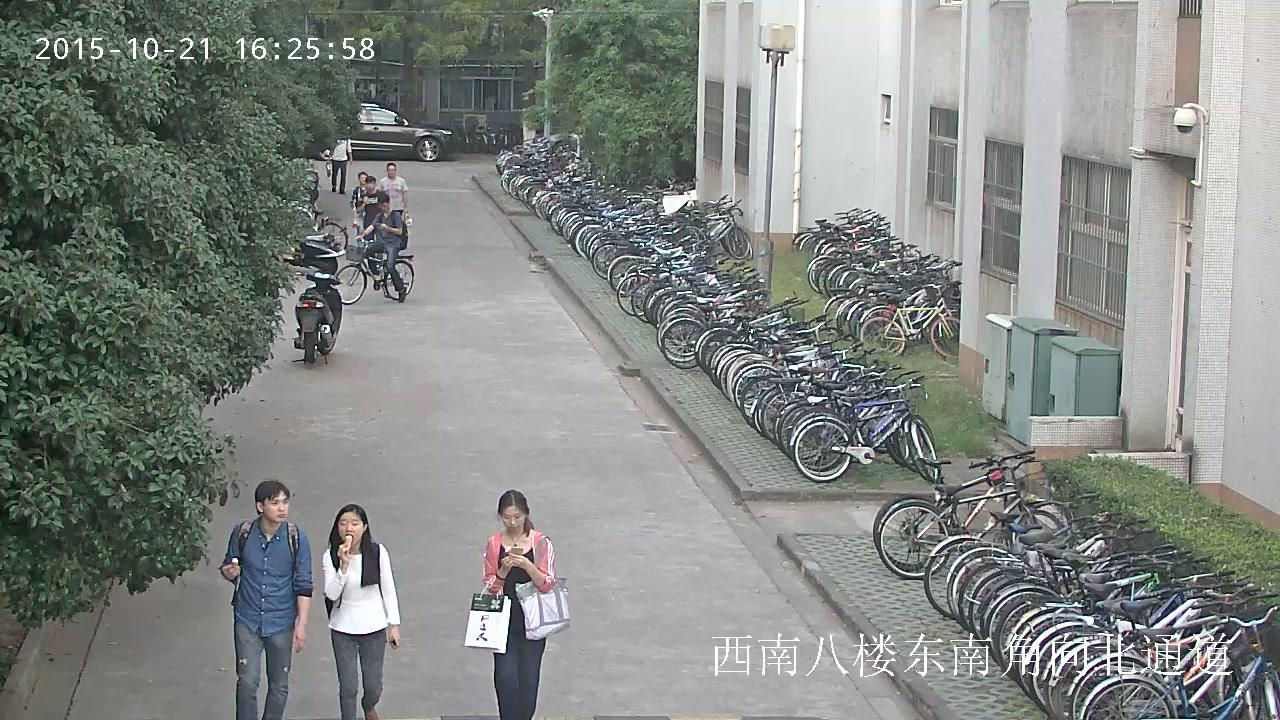person: (463, 488, 570, 720), (218, 479, 312, 720), (319, 503, 401, 720), (327, 191, 415, 306), (362, 192, 407, 302), (355, 175, 391, 265), (376, 162, 412, 229), (350, 171, 380, 241), (325, 138, 353, 193)
